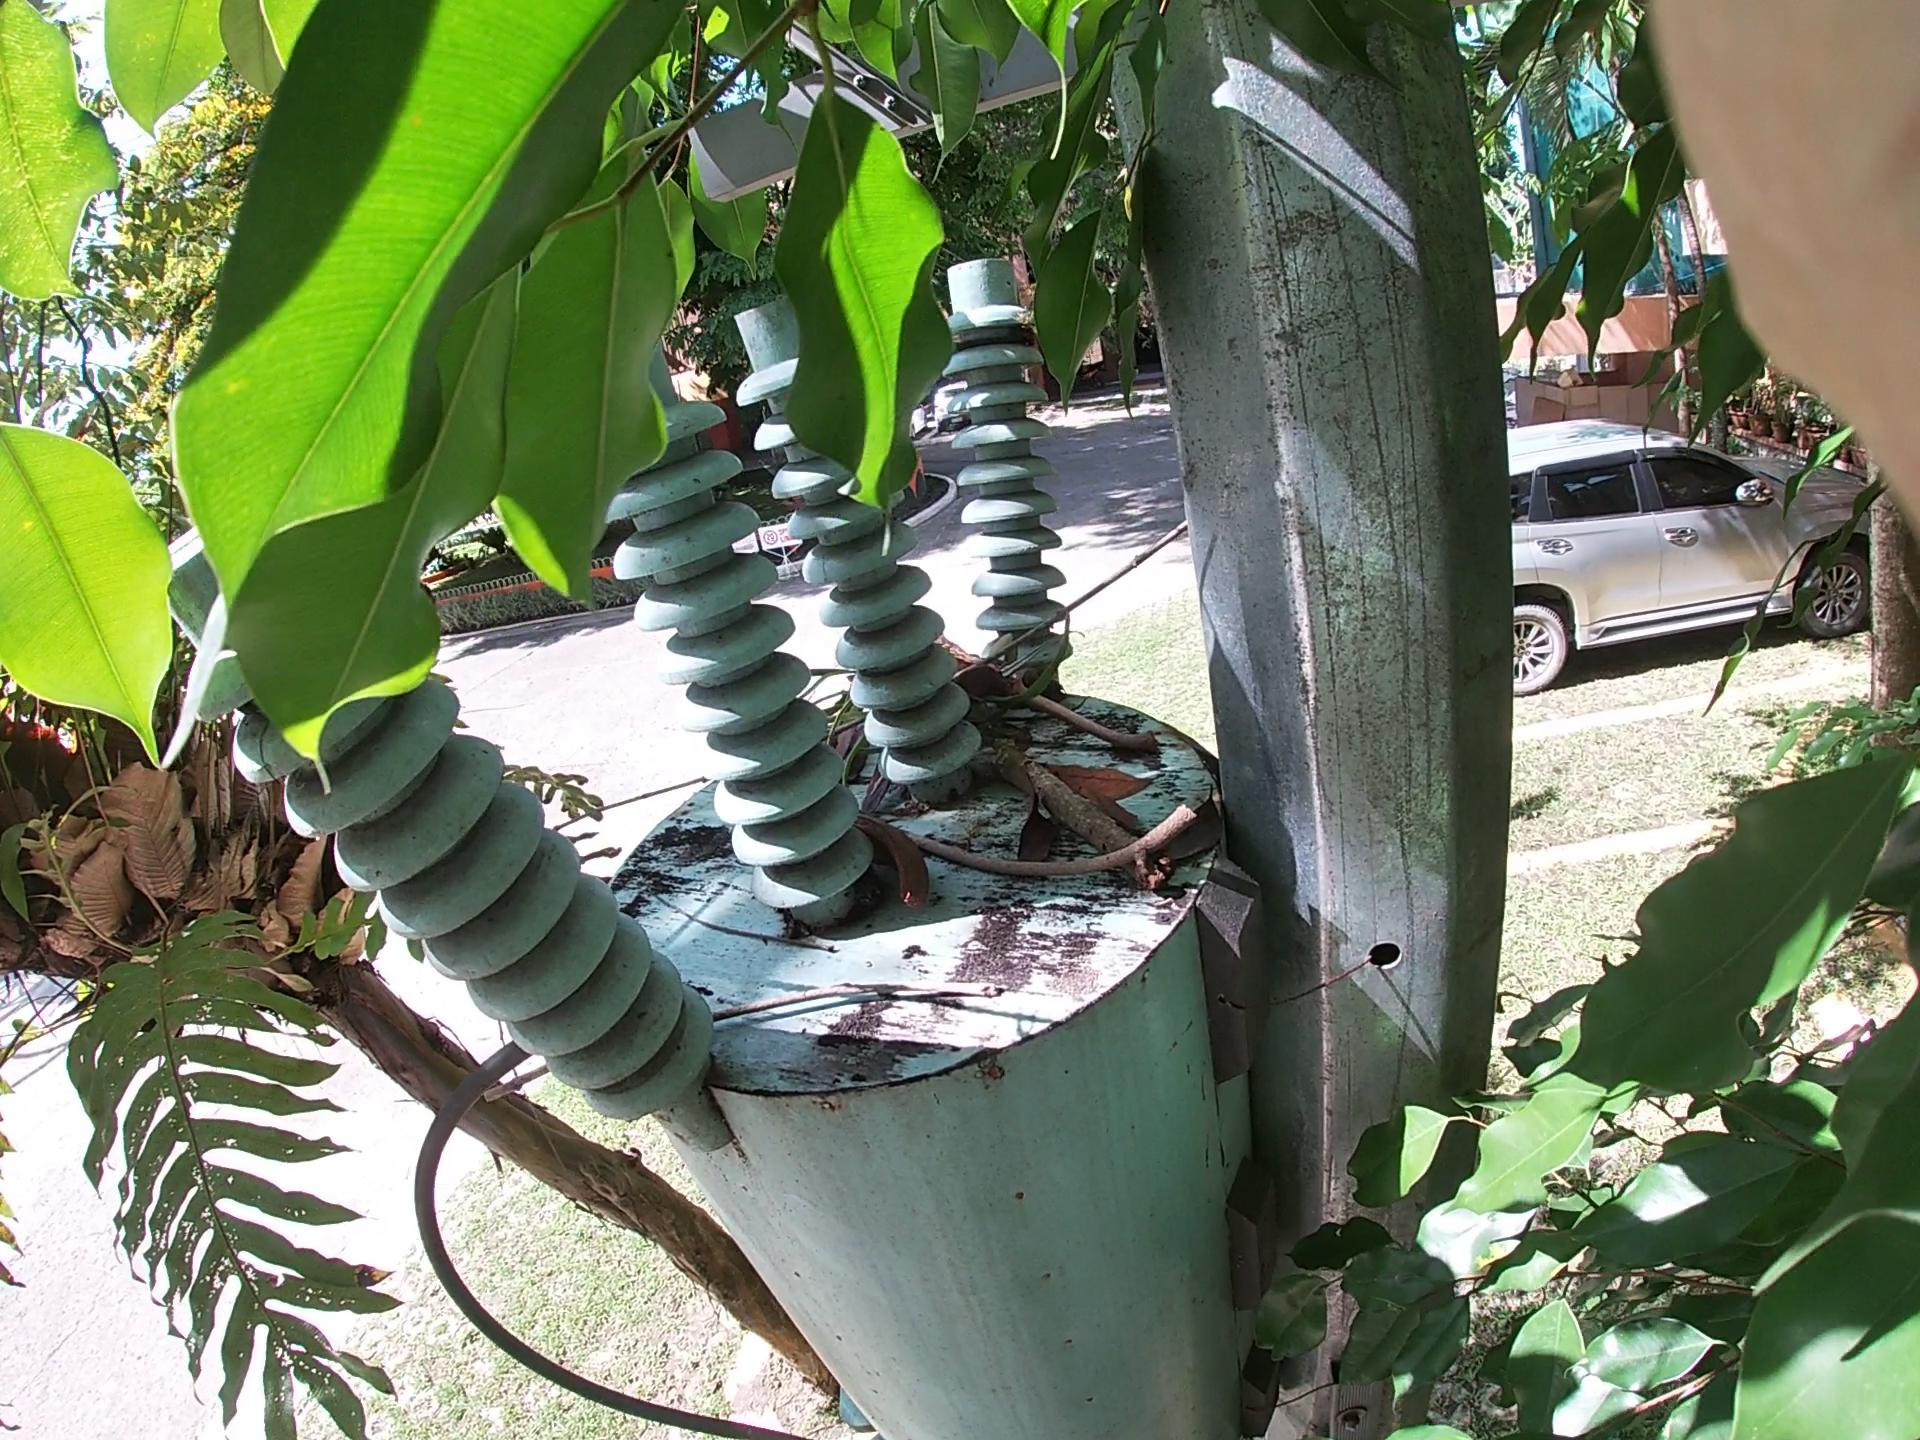branch with leaves: (957, 681, 1228, 917)
leaf: (1005, 756, 1205, 880)
tree branch: (810, 421, 1294, 817), (405, 964, 1144, 1124), (807, 762, 1200, 915), (957, 622, 1237, 762)
